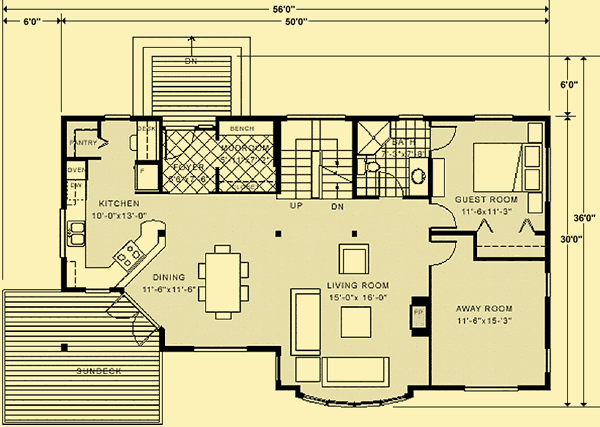bathroom has a large sink, small sink and shower space: (355, 117, 430, 199)
bedroom has a double bed and bedside stands: (430, 118, 549, 261)
hall has a dining table for eating and sitting: (172, 223, 277, 350)
kitchen has a twin sink and cooking range with a cooking counter: (59, 160, 168, 291)
livingroom has multiple set of large sofa, center table and a small couch: (280, 228, 430, 406)
